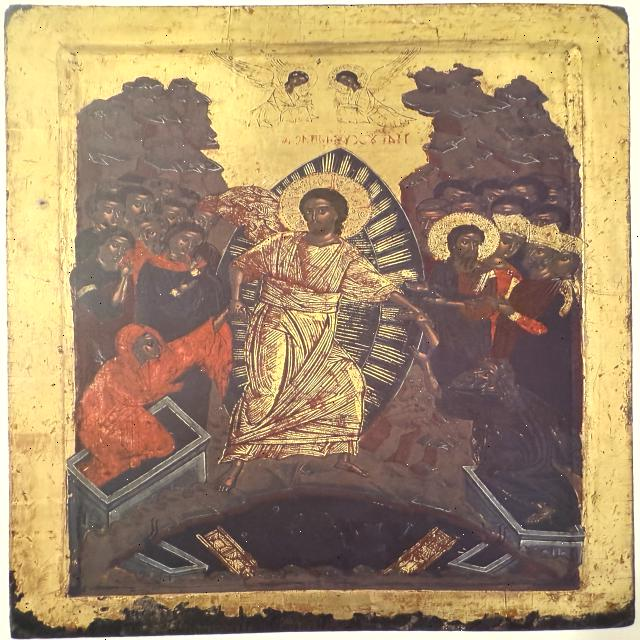angel: (323, 40, 439, 140), (209, 41, 323, 139)
aura: (275, 173, 371, 241), (428, 214, 504, 268), (327, 66, 369, 98), (276, 64, 320, 93)
christ: (197, 148, 427, 500)
crown: (528, 223, 574, 255), (492, 215, 538, 239)
saint: (422, 211, 508, 369)
wing: (360, 48, 425, 101), (212, 50, 274, 93)
